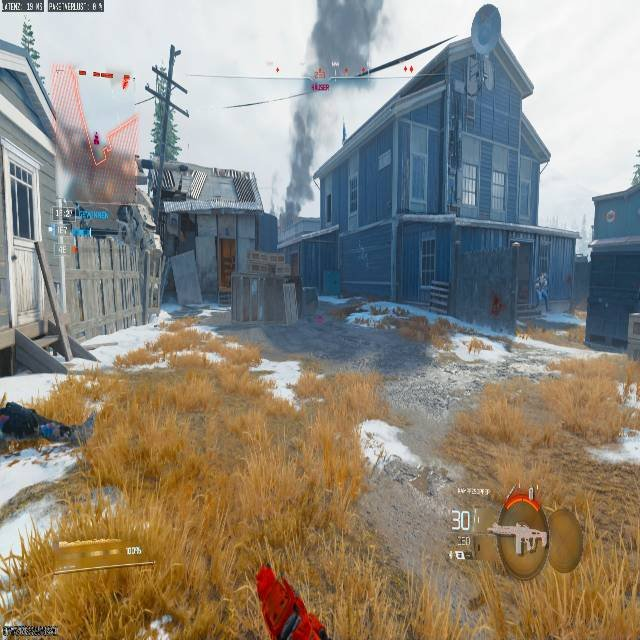head: (538, 272, 544, 278)
player: (534, 272, 549, 309)
